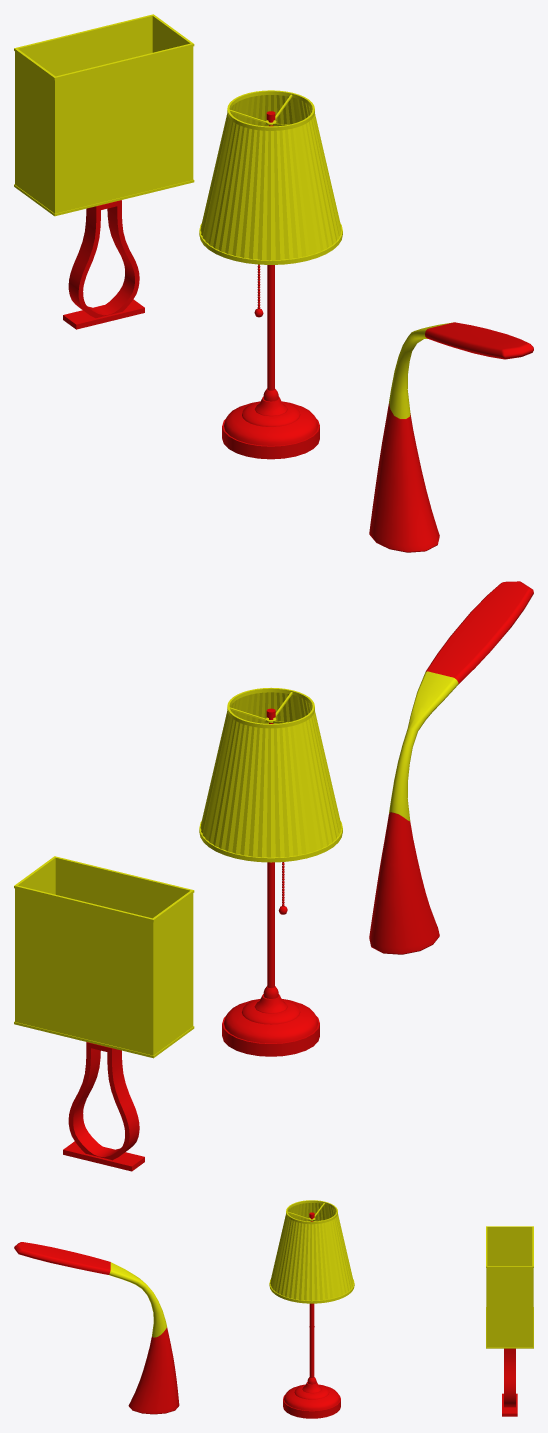
Rendered from thorkea_desk_lamps_grp.fbx.
3 renders of one model, top to bottom at view 1: azimuth 30°, elevation 25°; view 2: azimuth 150°, elevation 25°; view 3: azimuth 270°, elevation 25°, orthographic. The views are drawn at different scales.
Parts seen in each view (by area): view 1: thorkea_desk_lab_klabb, thorkea_desk_lamp_arstid, thorkea_desk_lamp_ai2; view 2: thorkea_desk_lab_klabb, thorkea_desk_lamp_arstid, thorkea_desk_lamp_ai2; view 3: thorkea_desk_lamp_arstid, thorkea_desk_lab_klabb, thorkea_desk_lamp_ai2.
Boxes of the visible parts, x1,y1,x2,y2 form: thorkea_desk_lab_klabb: (14,14,194,329); thorkea_desk_lamp_arstid: (199,90,342,459); thorkea_desk_lamp_ai2: (369,322,533,552); thorkea_desk_lab_klabb: (14,856,194,1171); thorkea_desk_lamp_arstid: (199,687,342,1056); thorkea_desk_lamp_ai2: (369,581,533,954); thorkea_desk_lamp_arstid: (269,1200,354,1418); thorkea_desk_lab_klabb: (486,1226,533,1416); thorkea_desk_lamp_ai2: (14,1242,179,1414).
Size of the model in its own units: 24.14 by 54.48 by 131.
